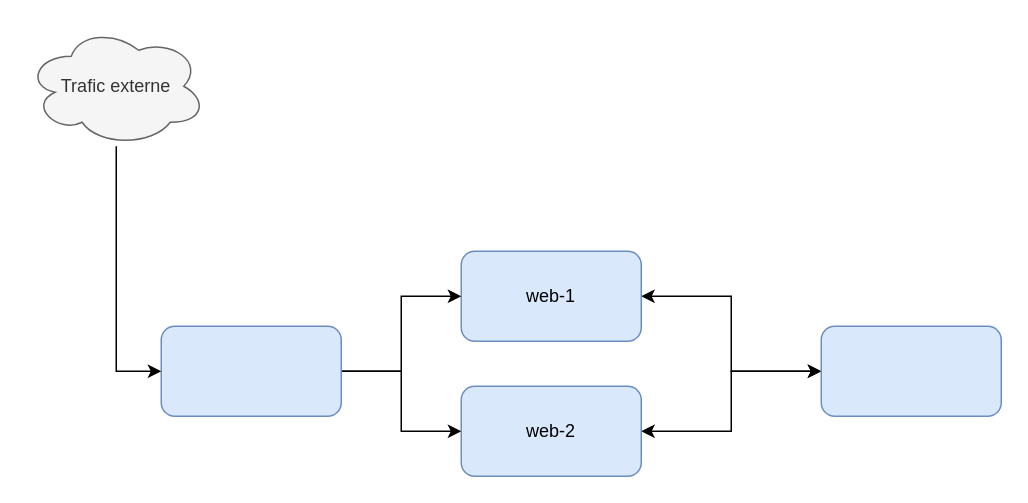
Some shapes in this 1028 by 503 pixel diagram are drawn without their labels. The shapes that lost their labels are listed below. From the top down, each one's box as (x1, y1, x2, y2) in pixels, then its label:
(160, 325, 341, 416): proxy
(820, 325, 1001, 416): redis
